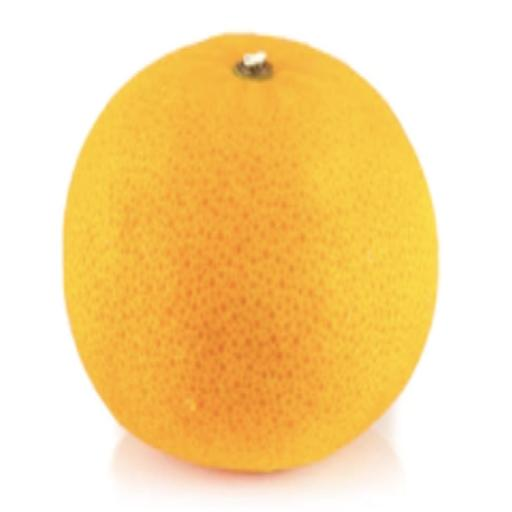orange: (64, 36, 438, 472)
